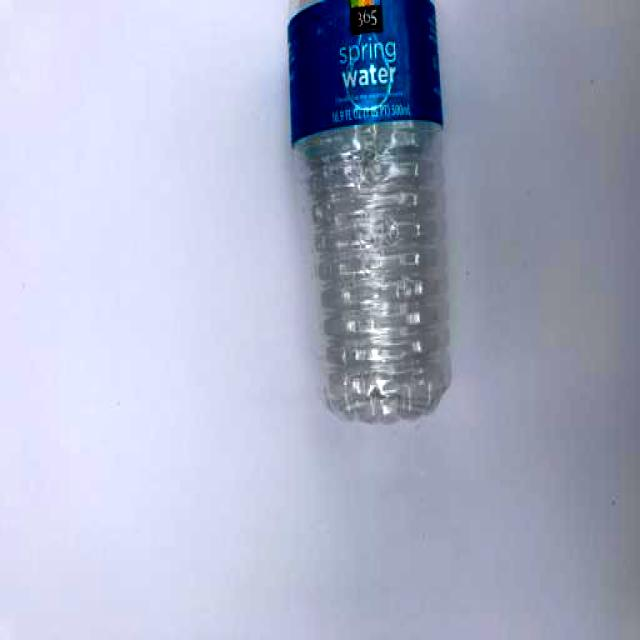Plastic: (277, 0, 467, 431)
